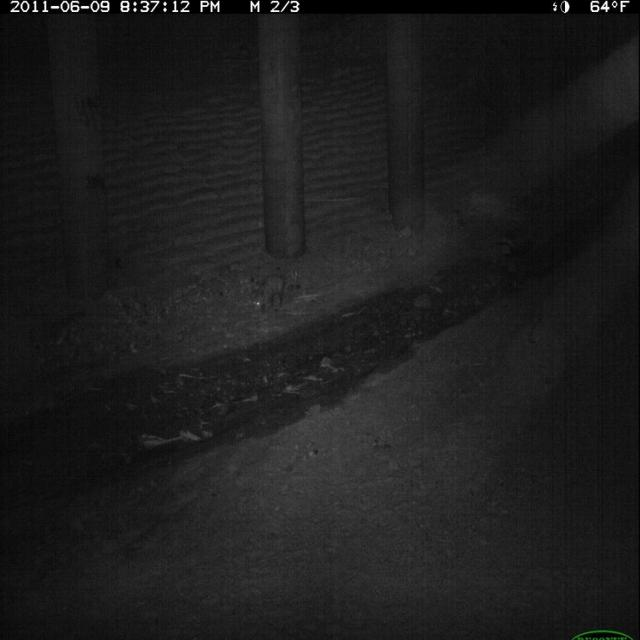opossum: (249, 262, 305, 319)
